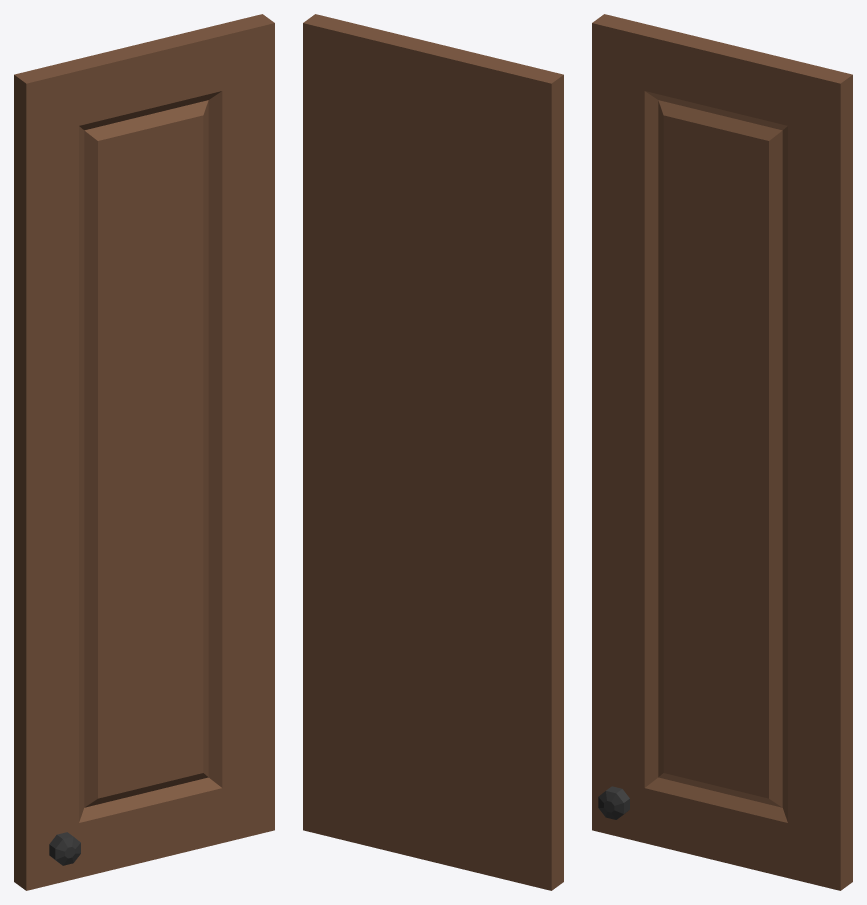
Rendered from Door3_C2_13.fbx.
3 views of the same model, side by side, from view 1: azimuth 30°, elevation 25°; view 2: azimuth 150°, elevation 25°; view 3: azimuth 330°, elevation 25° (orthographic).
Visible parts, largest first — view 1: Door3_C2_13; view 2: Door3_C2_13; view 3: Door3_C2_13.
Part boxes in pixels (<box>): Door3_C2_13: <box>14,14,274,890</box>; Door3_C2_13: <box>303,14,563,890</box>; Door3_C2_13: <box>592,14,852,890</box>.
Bounding box in the file's own units: 29 × 90 × 5.19.
